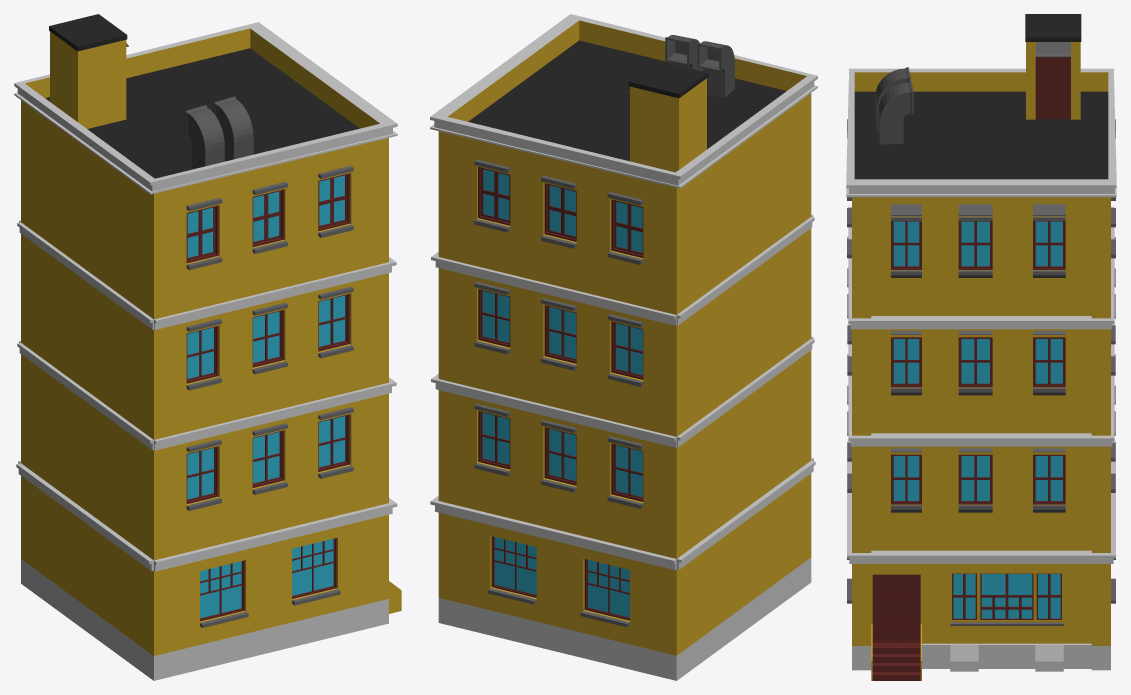
The model's file is apartment.obj.
The picture shows the model from 3 angles, left to right: view 1: azimuth 30°, elevation 25°; view 2: azimuth 150°, elevation 25°; view 3: azimuth 270°, elevation 25°; orthographic projection. The views are drawn at different scales.
Parts seen in each view (by area): view 1: Cube.001, Cube.004, Cube; view 2: Cube.001, Cube.004, Cube; view 3: Cube.004, Cube.001, Cube, Cube.002.
Boxes of the visible parts, x1=… form: Cube.001: x1=17, y1=220, x2=396, y2=560; Cube.004: x1=14, y1=14, x2=397, y2=319; Cube: x1=16, y1=460, x2=397, y2=680; Cube.001: x1=431, y1=214, x2=814, y2=558; Cube.004: x1=430, y1=14, x2=817, y2=314; Cube: x1=430, y1=458, x2=815, y2=680; Cube.004: x1=846, y1=14, x2=1116, y2=318; Cube.001: x1=847, y1=206, x2=1115, y2=552; Cube: x1=847, y1=441, x2=1115, y2=671; Cube.002: x1=871, y1=623, x2=921, y2=680.
Size of the model in its own units: 0.1769 by 0.3639 by 0.162.
